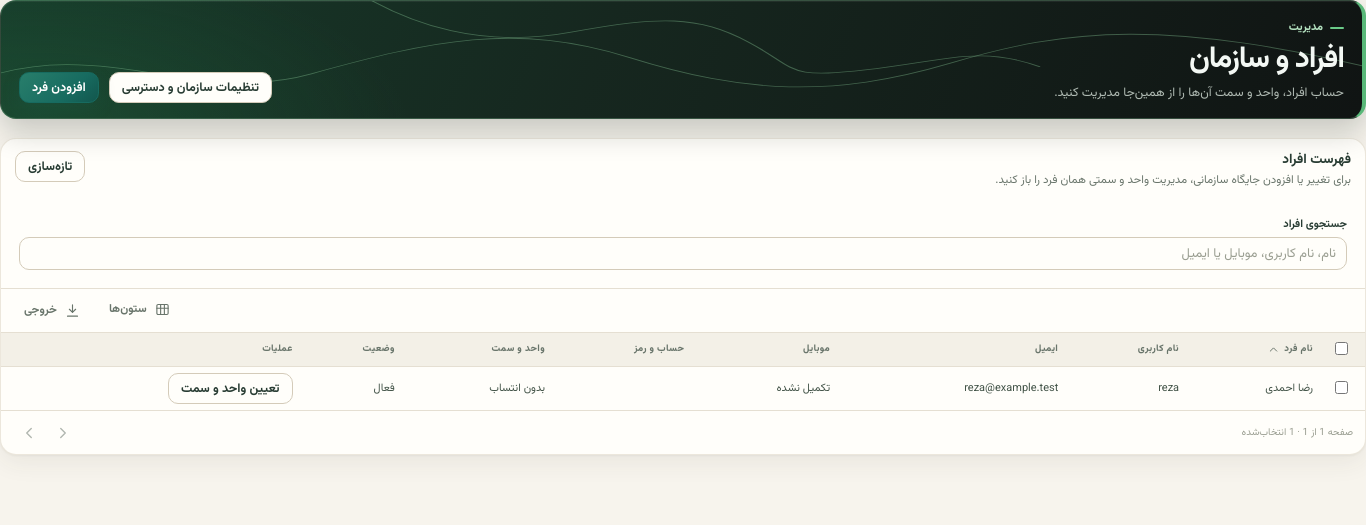
unified people and organization › opens organization settings without leaving the people page
The width and height of the screenshot is (1366, 525).
Later steps or results of the test are not shown.
Expected: the text "رضا احمدی" is shown, top-left (1188, 367), bottom-right (1322, 410)
Click the button "تنظیمات سازمان و دسترسی": x=190, y=88 top-left (109, 72), bottom-right (272, 103)
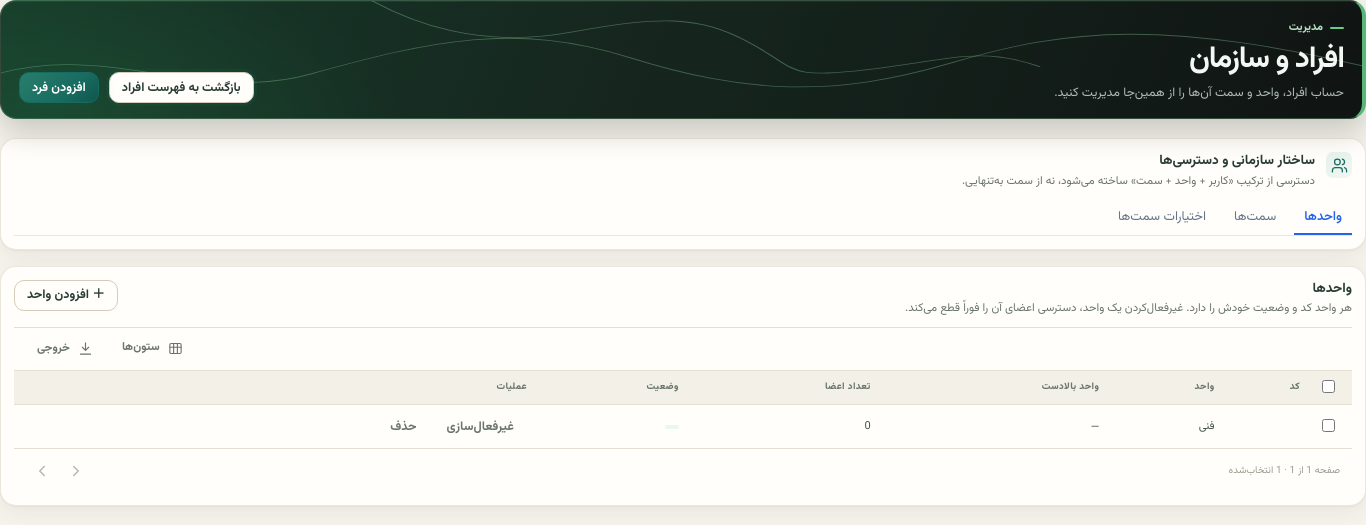
Expected: the tab "واحدها" is shown, top-left (1294, 202), bottom-right (1352, 234)
